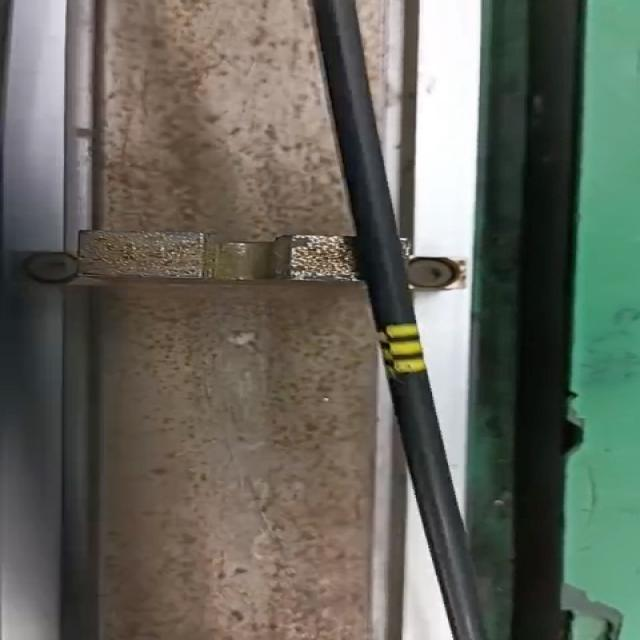yellow: (376, 324, 430, 374)
